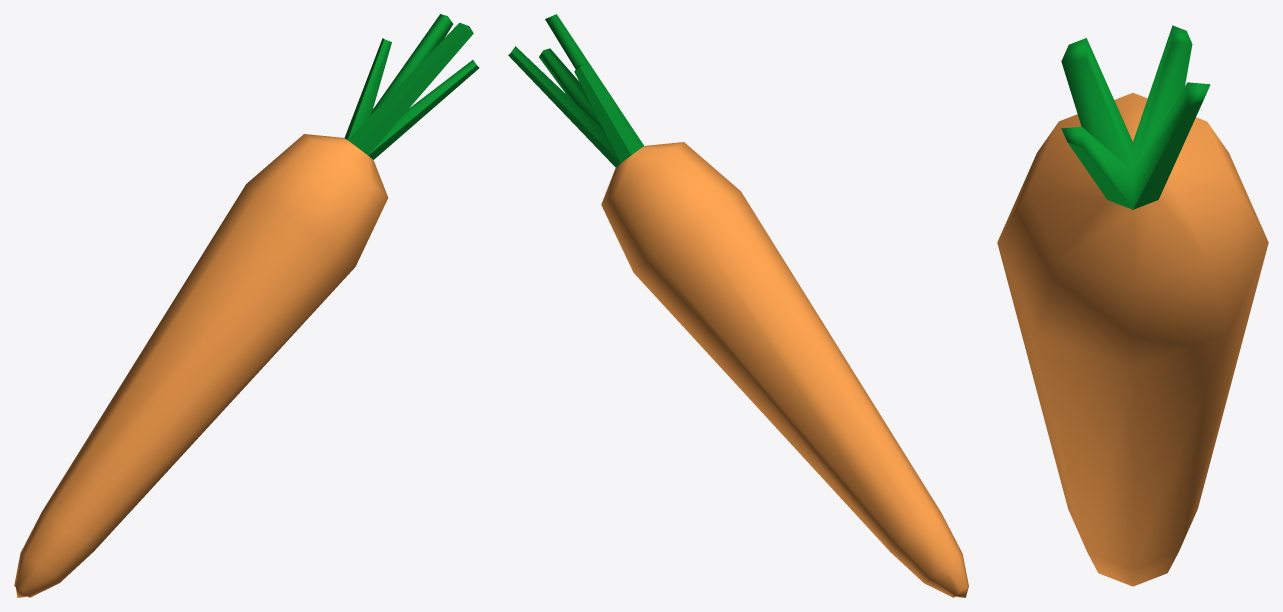
The model's file is carrot.fbx.
The picture shows the model from 3 angles, left to right: view 1: azimuth 30°, elevation 25°; view 2: azimuth 150°, elevation 25°; view 3: azimuth 270°, elevation 25°; orthographic projection. The views are drawn at different scales.
Visible parts, largest first — view 1: Carrot; view 2: Carrot; view 3: Carrot.
Part boxes in pixels (box(x1,y1,x2,y2)): Carrot: box(14, 14, 479, 597); Carrot: box(508, 14, 968, 597); Carrot: box(997, 25, 1268, 586).
Size of the model in its own units: 343 by 349 by 90.82.
Materials: 2 (2 with a texture image).
